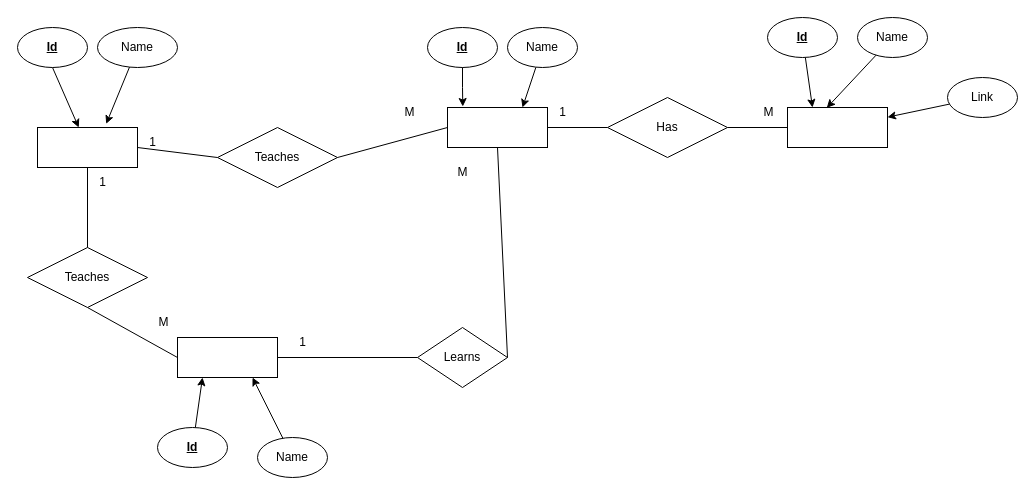
Image size: 1035x495. Some labels were removed from this diagram. The shapes that lost their labels are listed below. From the top down, each one's centre as x and y in pixels, then its label:
pixel 87 147: Tutor
pixel 497 127: Language
pixel 837 127: Video
pixel 227 357: Student
